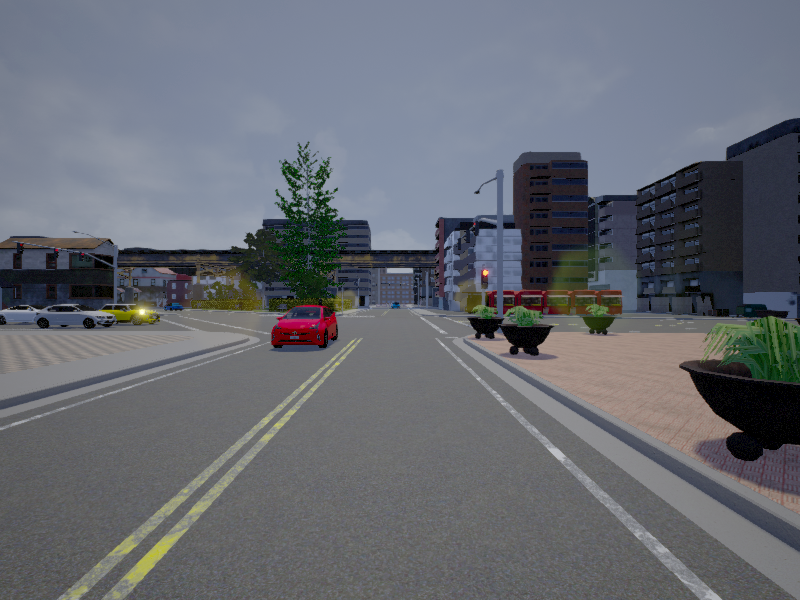Benign: (274, 305, 339, 349), (35, 305, 112, 330), (99, 305, 161, 327), (1, 301, 42, 329), (163, 303, 184, 312)
